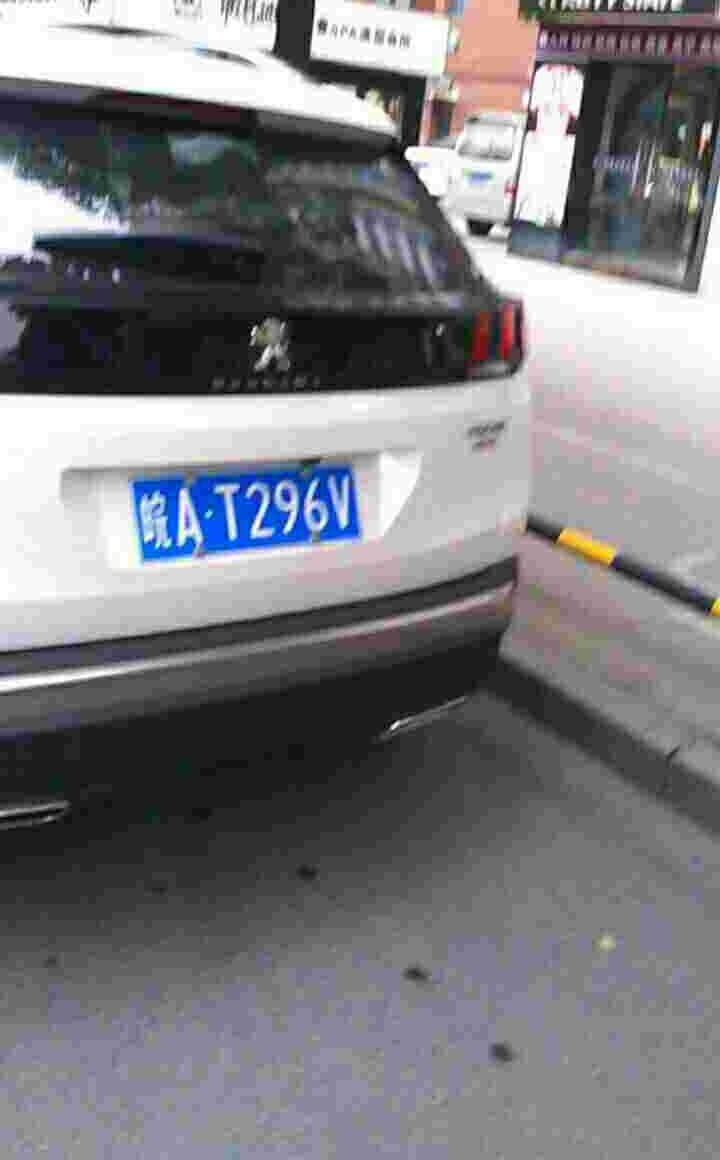license_plate: (140, 472, 359, 566)
